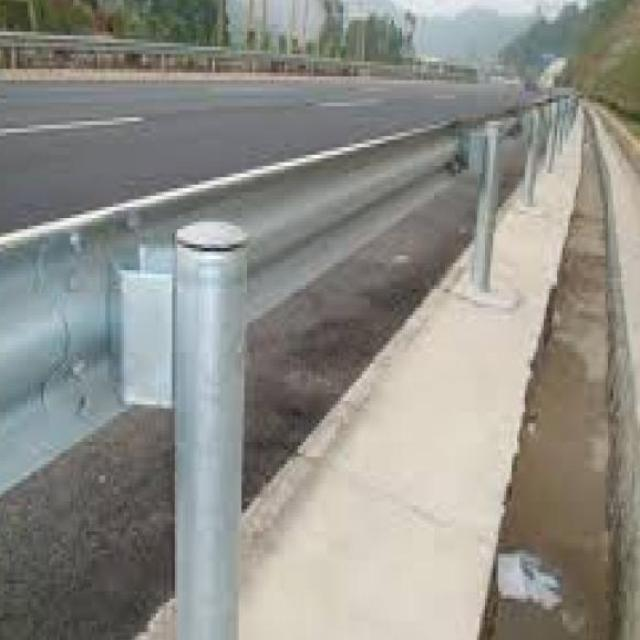Guard rail: (0, 125, 458, 494)
